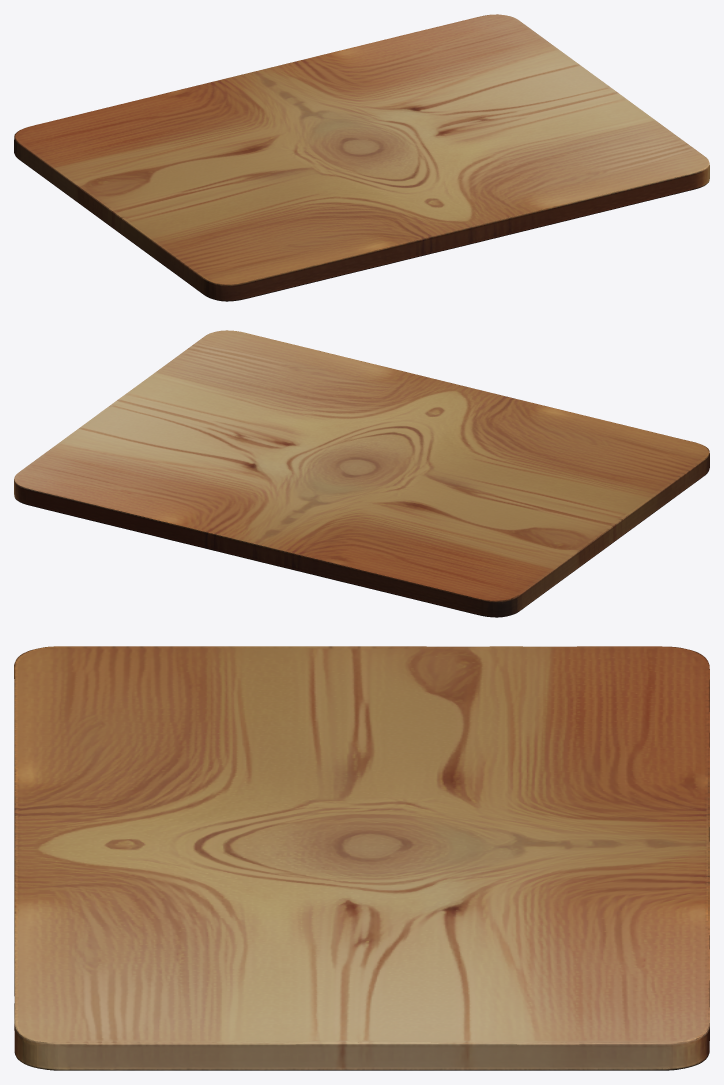
File: wooden-bath-mat-3d.jpeg.glb
The picture shows the model from 3 angles, top to bottom: view 1: azimuth 30°, elevation 25°; view 2: azimuth 150°, elevation 25°; view 3: azimuth 270°, elevation 25°; orthographic projection. The views are drawn at different scales.
Parts seen in each view (by area): view 1: world; view 2: world; view 3: world.
Boxes of the visible parts, left/top/right/bottom form: world: left=14, top=14, right=709, bottom=301; world: left=14, top=330, right=709, bottom=617; world: left=14, top=646, right=709, bottom=1070.
Bounding box in the file's own units: 1 × 0.033 × 0.7404.
1 material, 1 textured.
